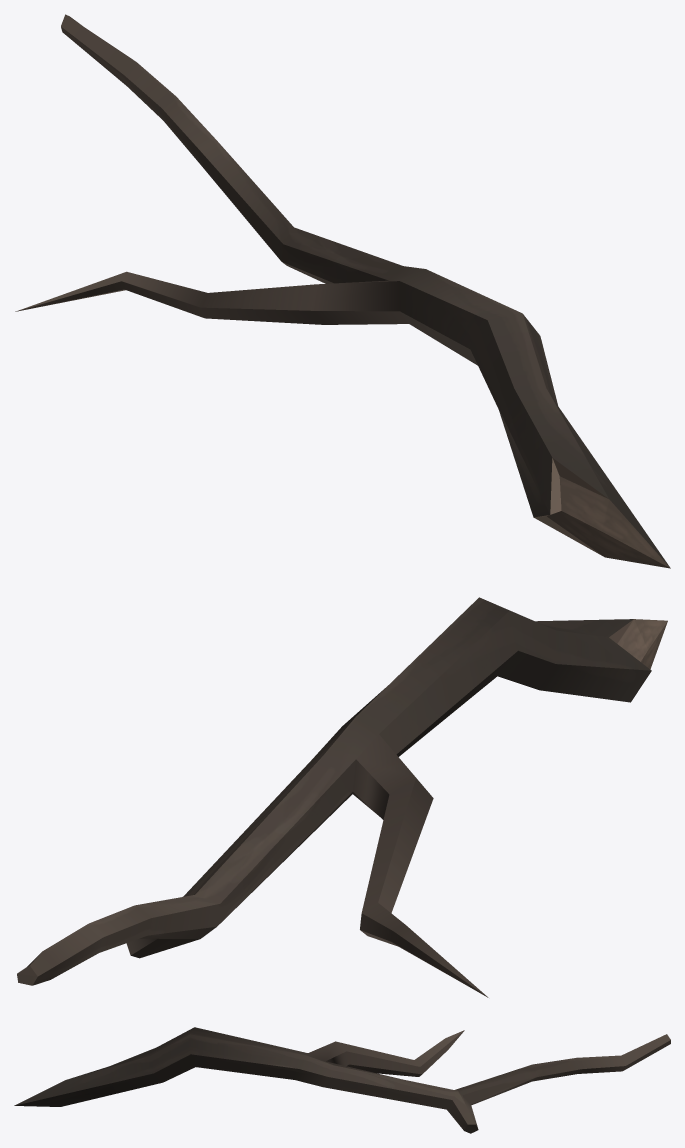
File: fallenBranch01.fbx
3 renders of one model, top to bottom at view 1: azimuth 30°, elevation 25°; view 2: azimuth 150°, elevation 25°; view 3: azimuth 270°, elevation 25°, orthographic. The views are drawn at different scales.
Visible parts, largest first — view 1: Cylinder001; view 2: Cylinder001; view 3: Cylinder001.
Part boxes in pixels (box(x1,y1,x2,y2)): Cylinder001: box(15, 14, 670, 568); Cylinder001: box(17, 597, 667, 997); Cylinder001: box(14, 1027, 670, 1133).
Size of the model in its own units: 349 by 159 by 1111.
